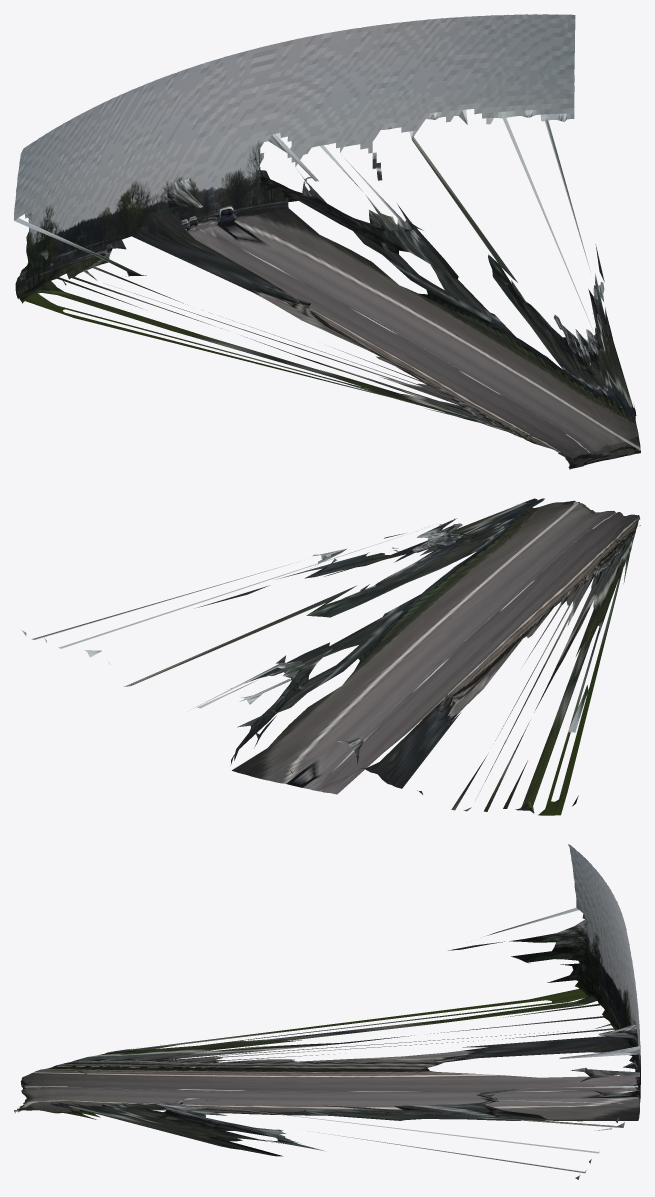
The picture shows the model from 3 angles, top to bottom: view 1: azimuth 30°, elevation 25°; view 2: azimuth 150°, elevation 25°; view 3: azimuth 270°, elevation 25°; orthographic projection. The views are drawn at different scales.
Parts seen in each view (by area): view 1: defaultobject; view 2: defaultobject; view 3: defaultobject.
Part boxes in pixels (bbox=[...]): defaultobject: bbox=[14, 14, 640, 469]; defaultobject: bbox=[21, 498, 640, 815]; defaultobject: bbox=[14, 844, 640, 1179].
Bounding box in the file's own units: 41.08 × 12.39 × 44.56.
1 material, 1 textured.
